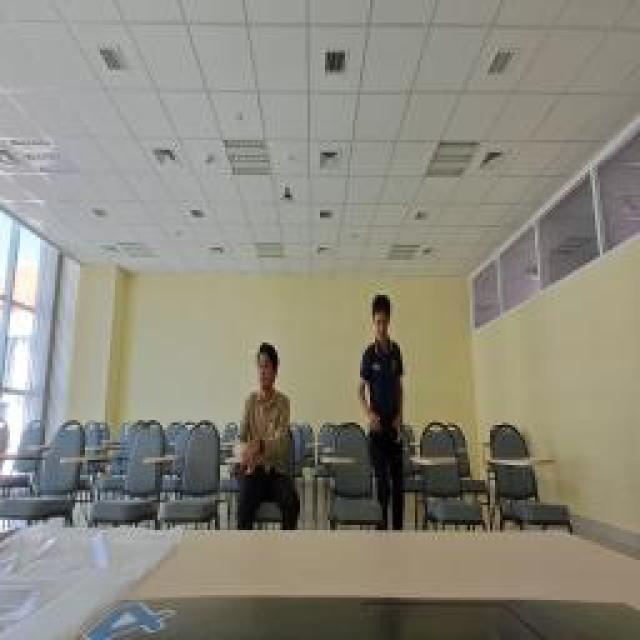study: (230, 338, 300, 530)
